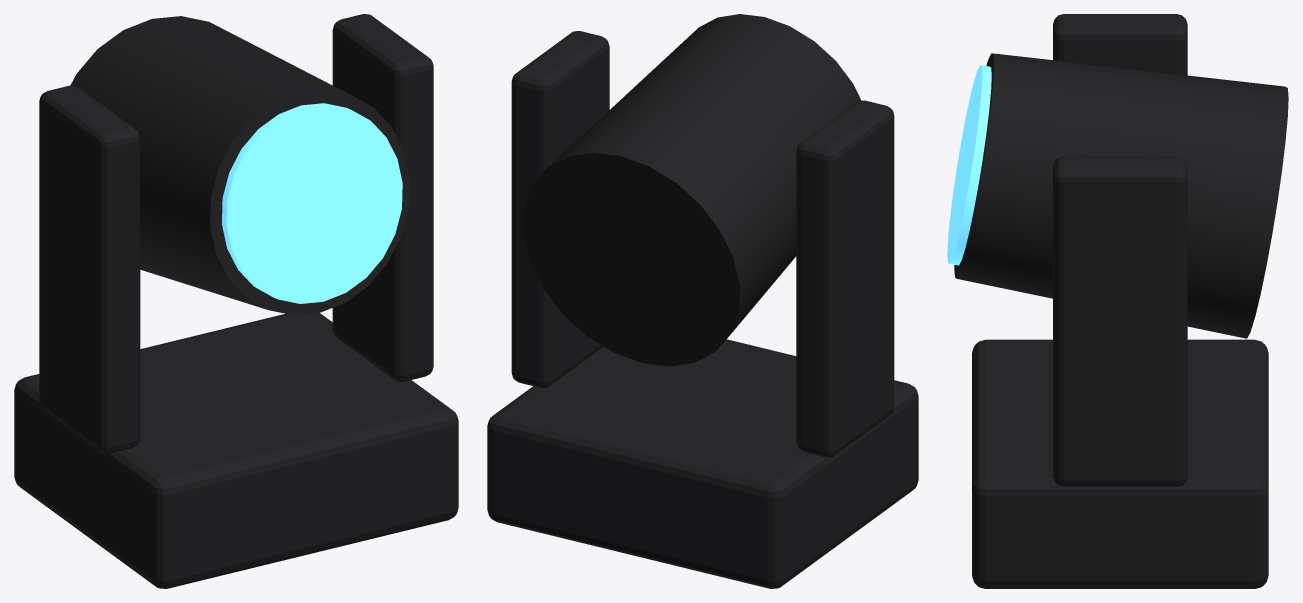
File: moving-head.glb
The picture shows the model from 3 angles, left to right: view 1: azimuth 30°, elevation 25°; view 2: azimuth 150°, elevation 25°; view 3: azimuth 270°, elevation 25°; orthographic projection. The views are drawn at different scales.
Visible parts, largest first — view 1: CabezaMovil_Truss_Izq_base, CabezaMovil_Truss_Izq_cabeza, CabezaMovil_Truss_Izq_brazo, CabezaMovil_Truss_Izq_lente, CabezaMovil_Truss_Izq_brazo.001; view 2: CabezaMovil_Truss_Izq_cabeza, CabezaMovil_Truss_Izq_base, CabezaMovil_Truss_Izq_brazo, CabezaMovil_Truss_Izq_brazo.001; view 3: CabezaMovil_Truss_Izq_base, CabezaMovil_Truss_Izq_cabeza, CabezaMovil_Truss_Izq_brazo.001, CabezaMovil_Truss_Izq_brazo, CabezaMovil_Truss_Izq_lente.
Boxes of the visible parts, x1=… form: CabezaMovil_Truss_Izq_base: x1=14, y1=313, x2=458, y2=588; CabezaMovil_Truss_Izq_cabeza: x1=70, y1=16, x2=409, y2=315; CabezaMovil_Truss_Izq_brazo: x1=39, y1=85, x2=140, y2=453; CabezaMovil_Truss_Izq_lente: x1=222, y1=103, x2=402, y2=303; CabezaMovil_Truss_Izq_brazo.001: x1=332, y1=14, x2=433, y2=381; CabezaMovil_Truss_Izq_cabeza: x1=523, y1=14, x2=861, y2=366; CabezaMovil_Truss_Izq_base: x1=487, y1=339, x2=918, y2=588; CabezaMovil_Truss_Izq_brazo: x1=796, y1=100, x2=894, y2=457; CabezaMovil_Truss_Izq_brazo.001: x1=511, y1=31, x2=609, y2=387; CabezaMovil_Truss_Izq_base: x1=972, y1=339, x2=1268, y2=588; CabezaMovil_Truss_Izq_cabeza: x1=954, y1=53, x2=1288, y2=338; CabezaMovil_Truss_Izq_brazo.001: x1=1053, y1=156, x2=1187, y2=486; CabezaMovil_Truss_Izq_brazo: x1=1053, y1=14, x2=1187, y2=75; CabezaMovil_Truss_Izq_lente: x1=947, y1=65, x2=991, y2=265.
Bounding box in the file's own units: 0.285 × 0.3728 × 0.2531.
